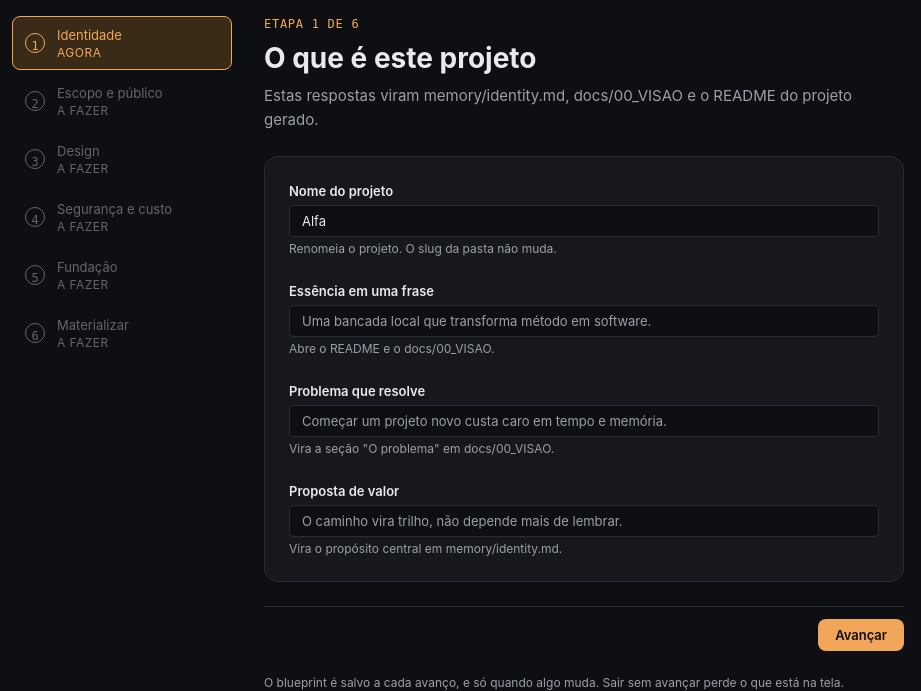
Test: avançar, pular e concluir › avançar com os obrigatórios preenchidos marca a etapa como concluída e salva
This screenshot has width=921, height=691.
(page scrolled)
In the field labelled "Essência em uma frase": point(584, 321) [289,305,879,337], type "uma bancada local"
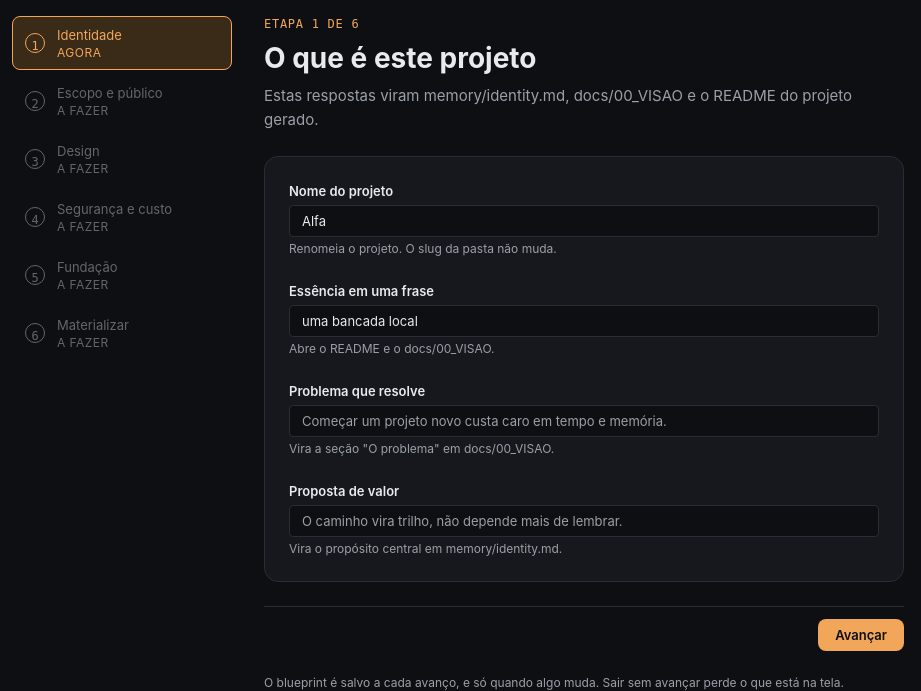
In the field labelled "Problema que resolve": point(584, 421) [289,405,879,437], type "começar custa caro"
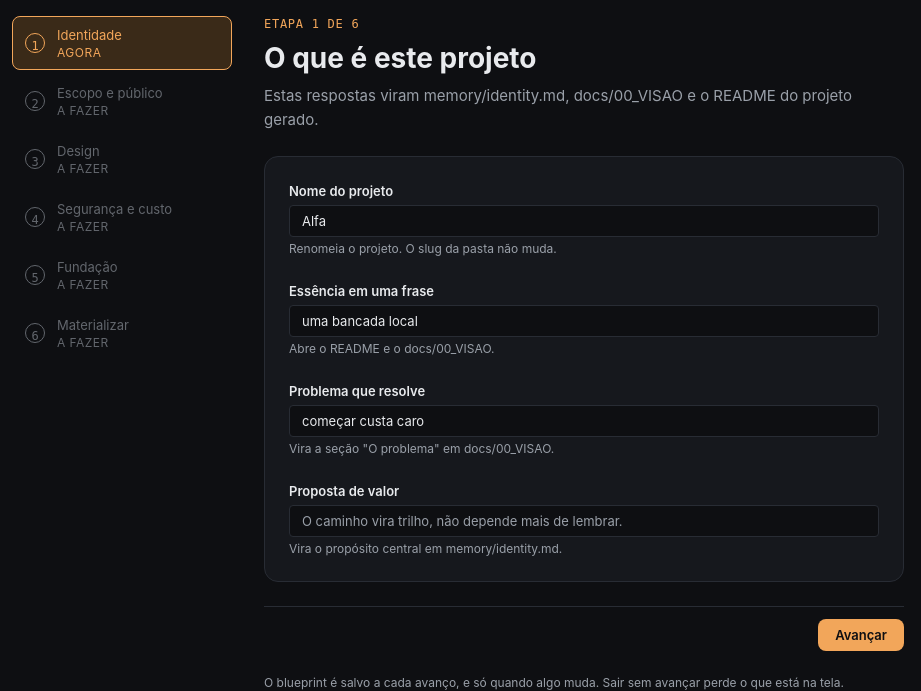
In the field labelled "Proposta de valor": point(584, 521) [289,505,879,537], type "o método vira trilho"
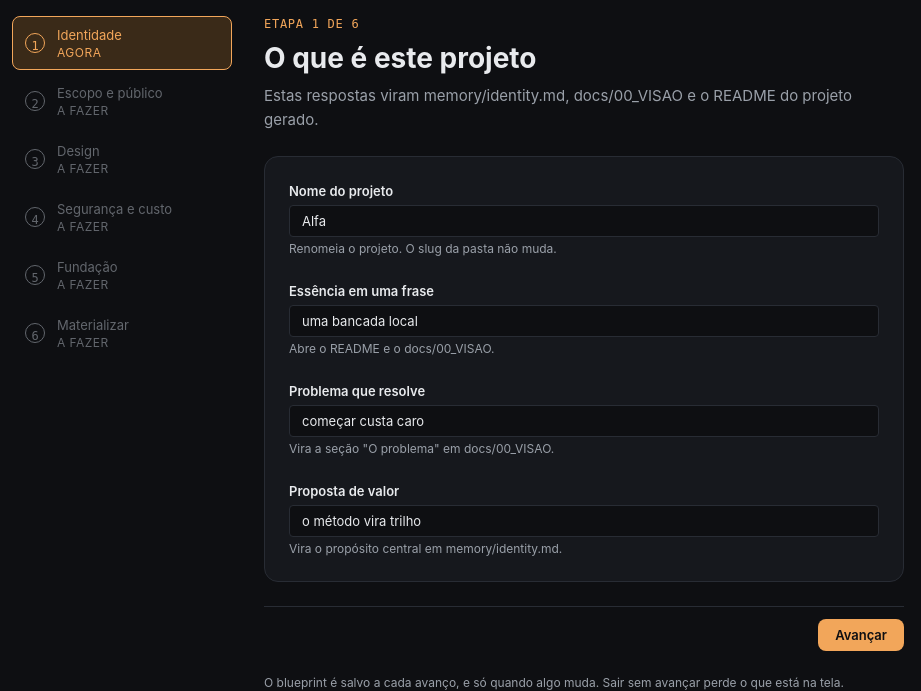
Click the button "Avançar": point(861, 635) [818,619,904,651]
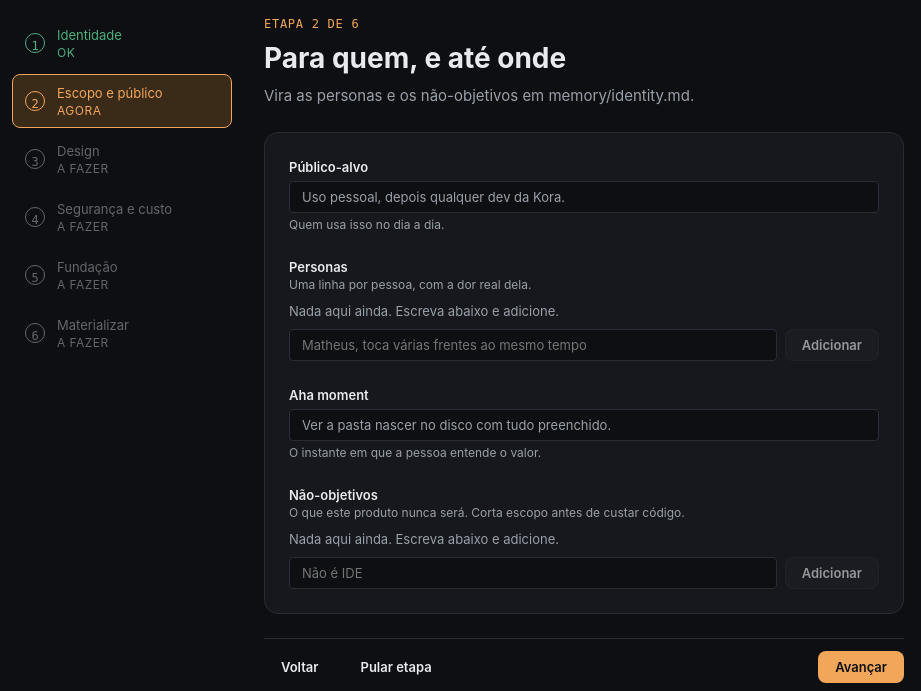
Result: the heading "Para quem, e até onde" is shown at [264,41,566,75]
